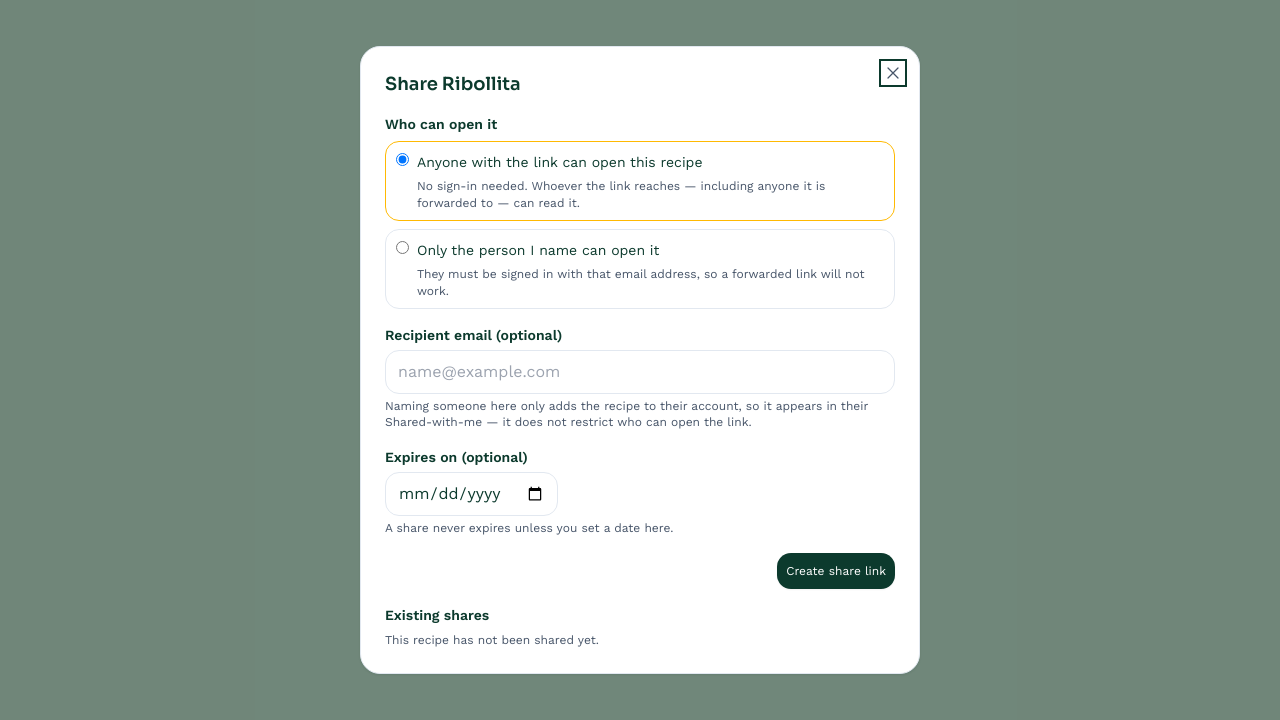
Test: explains a 429 calmly instead of as a generic failure
Click the button "Create share link" at coordinates (836, 571), box [777, 553, 895, 589]
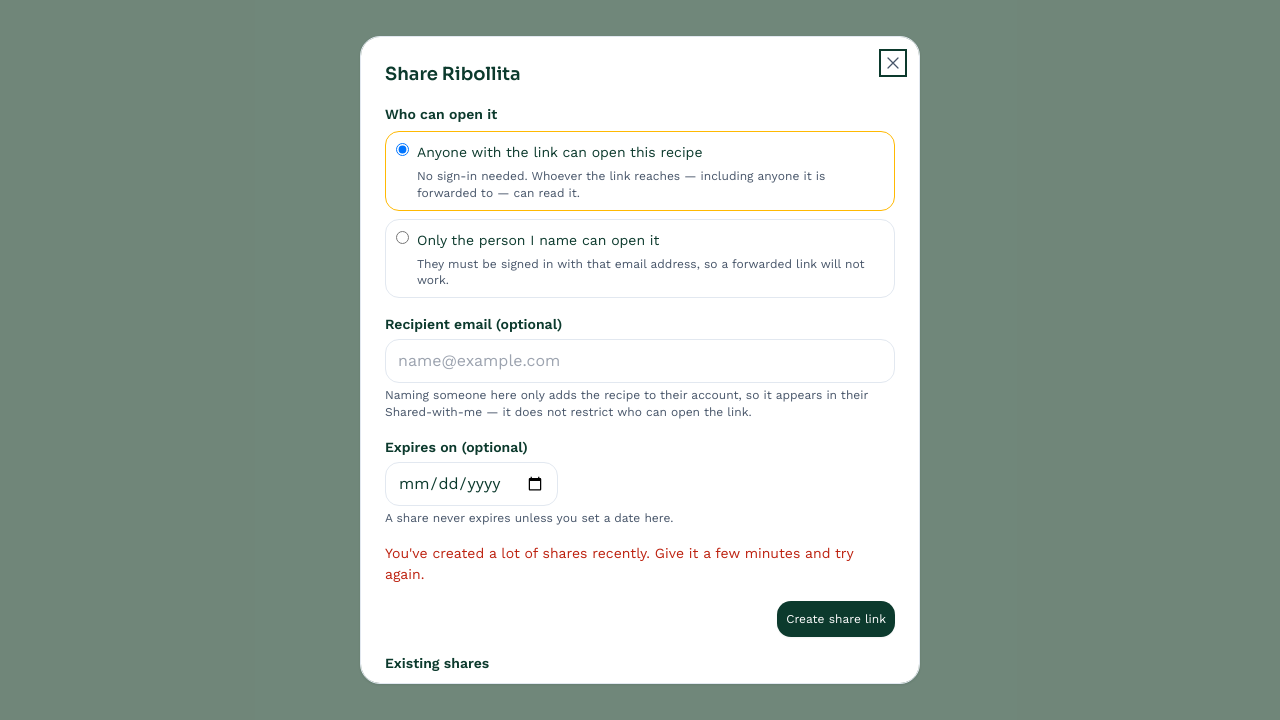
Check: the text "created a lot of shares" is shown, box [385, 545, 853, 582]
